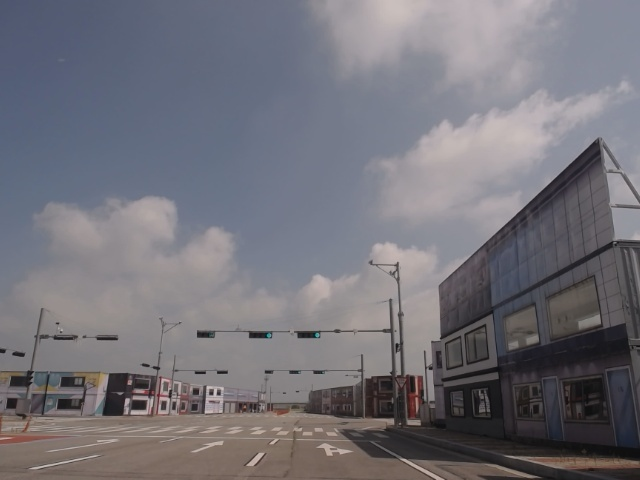straight_green_4: (249, 331, 274, 339), (298, 331, 323, 339)
